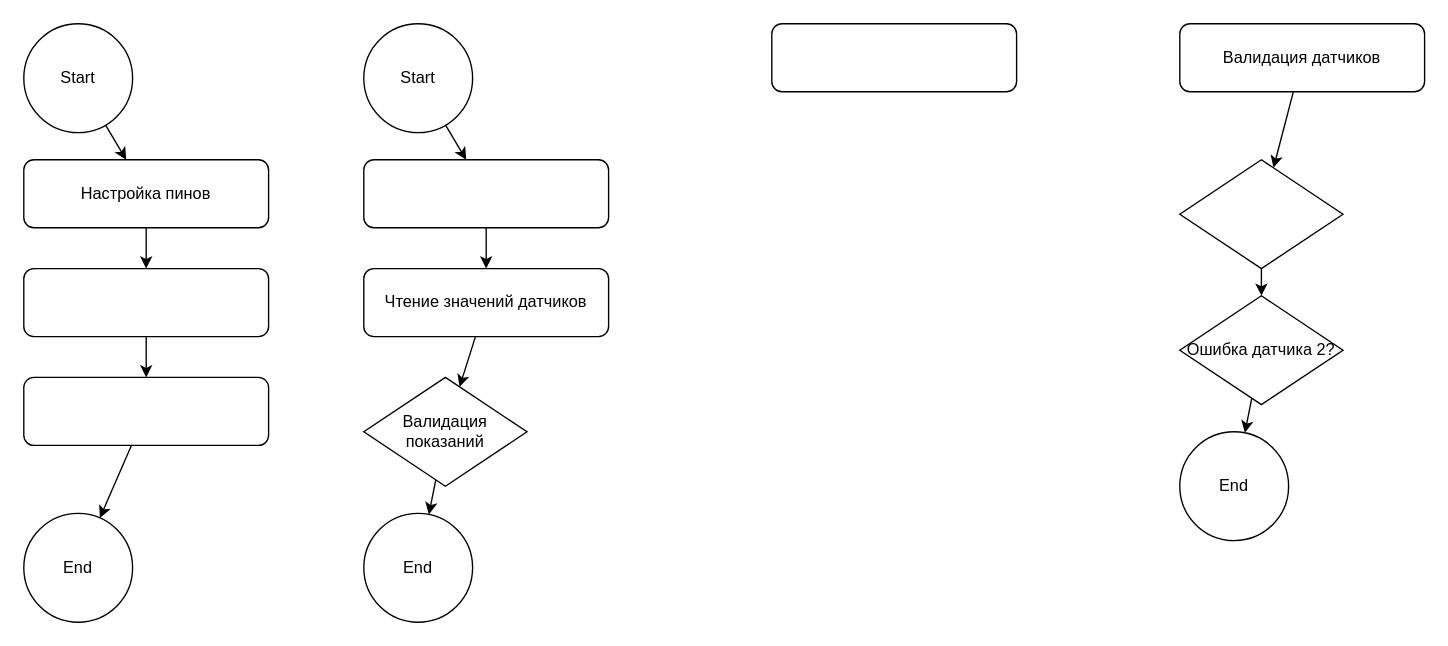
The diagram is 1448 pixels wide and 646 high, and some of its shapes have lost their labels. Here are the shapes that lost their labels. From the top down, the box of each, then its label:
(770, 22, 1017, 92): Обновление LCD
(362, 158, 609, 228): Чтение значений с кнопок
(1178, 158, 1343, 269): Ошибка датчика 1?
(22, 267, 269, 337): Инициализация Serial 9600
(22, 376, 269, 445): Инициализация LCD
